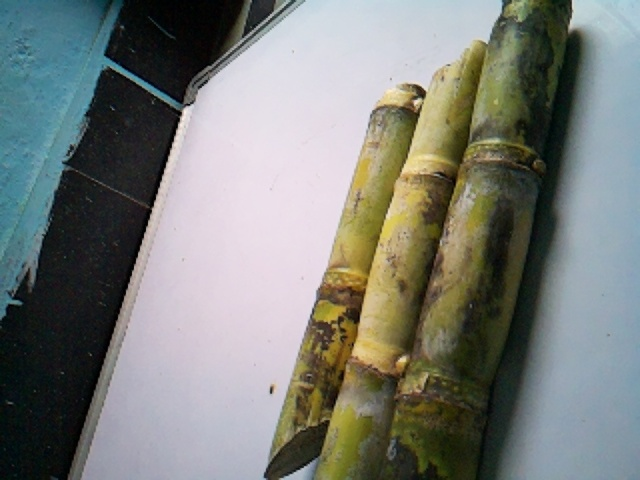Good Sugarcane: (384, 0, 571, 480), (313, 41, 483, 480), (262, 82, 421, 476)
Node: (382, 370, 490, 432), (457, 129, 551, 181), (339, 326, 413, 384), (390, 154, 464, 198), (312, 263, 375, 309)
